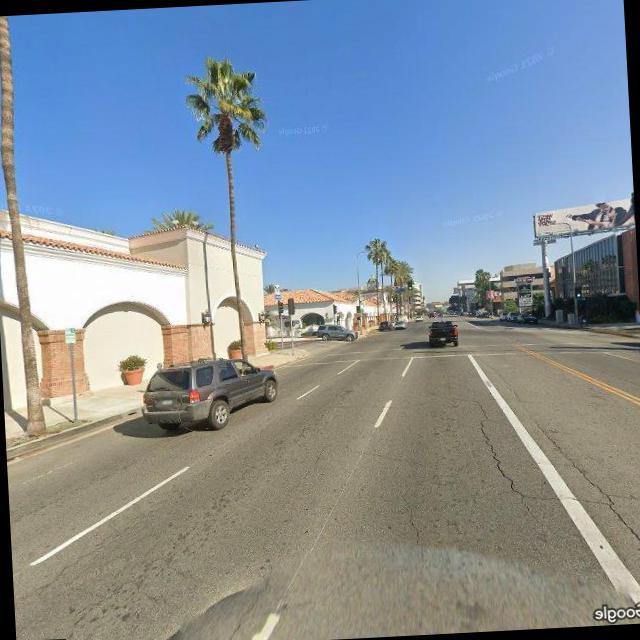pothole: (535, 415, 640, 563), (474, 394, 536, 519), (486, 356, 524, 402), (400, 487, 427, 546), (314, 444, 332, 471)
